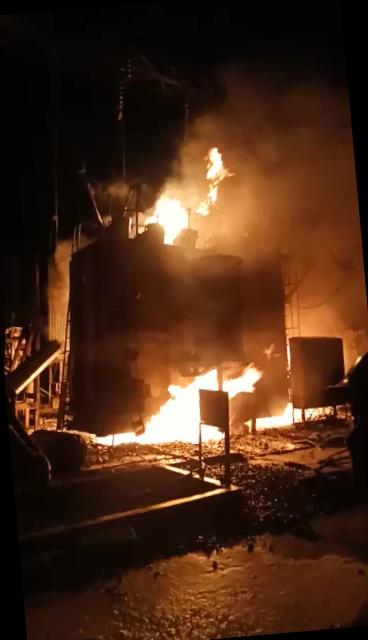Fire: (87, 360, 269, 452)
Smoke: (104, 59, 368, 405)
